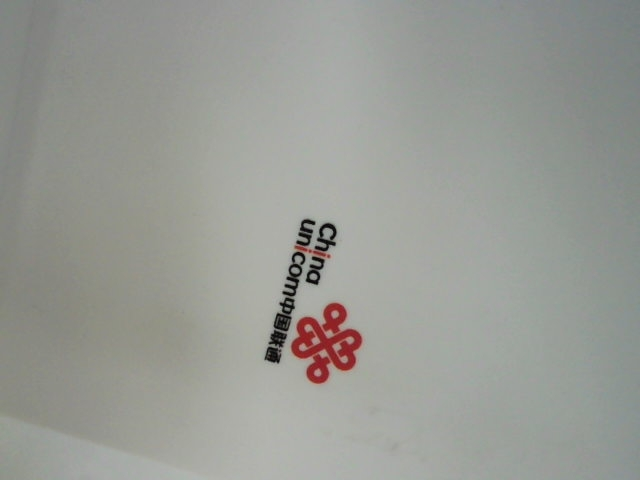ChinaUnicom: (246, 200, 371, 391)
